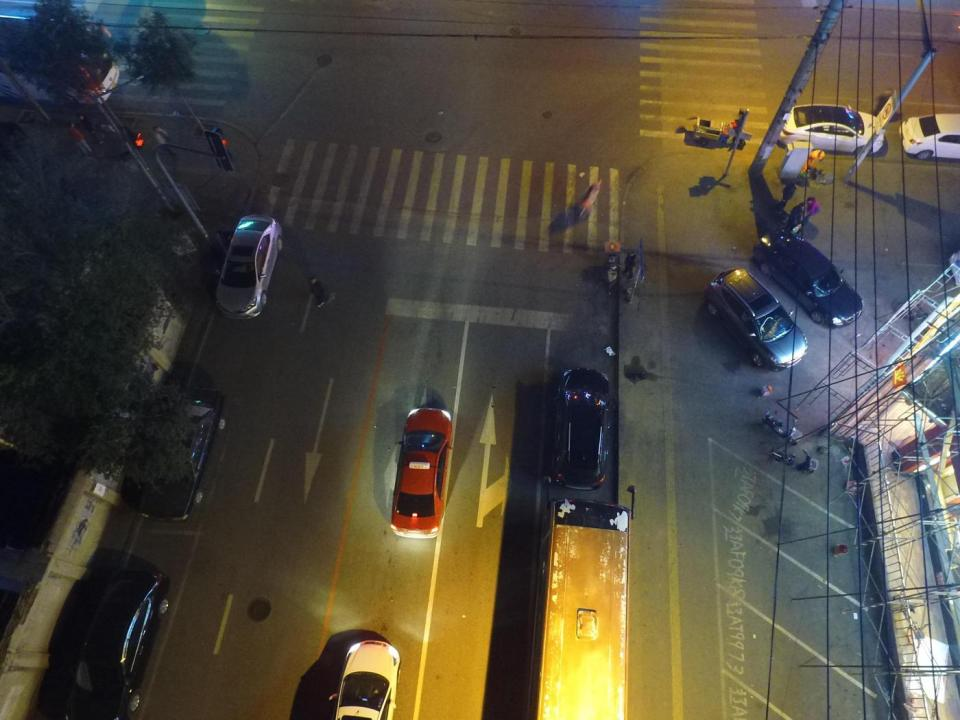bus: (536, 493, 630, 718), (0, 14, 121, 113)
car: (54, 571, 170, 719), (754, 226, 863, 327), (138, 387, 221, 519), (707, 268, 808, 372), (387, 406, 456, 540), (546, 369, 612, 490), (215, 212, 284, 319), (777, 97, 884, 159), (331, 640, 402, 718), (900, 110, 958, 159)
